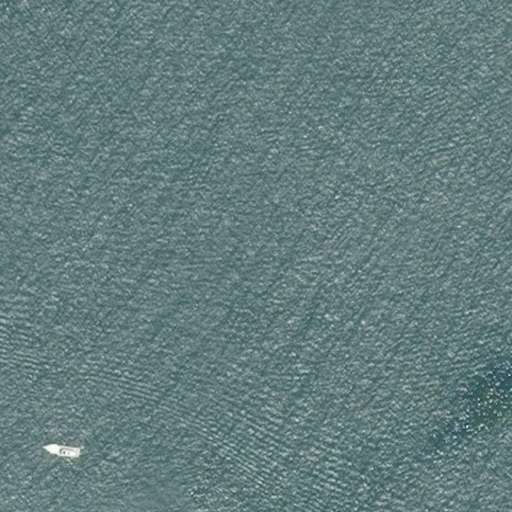ship: (40, 440, 83, 463)
